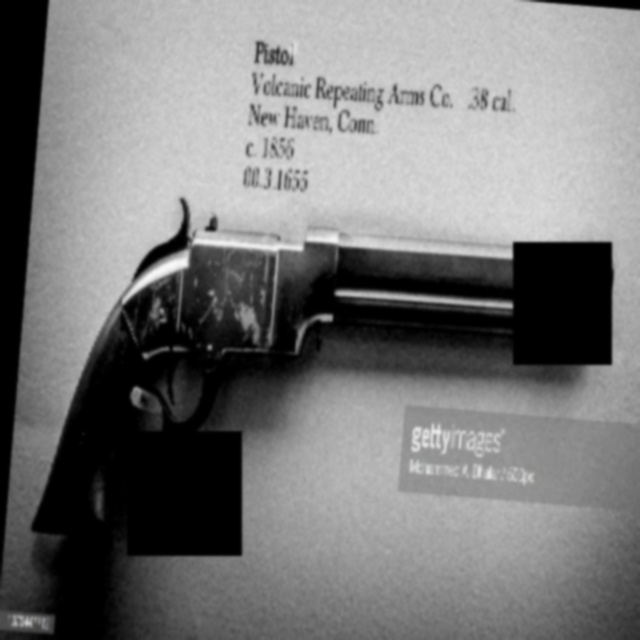gun: (29, 184, 615, 579)
